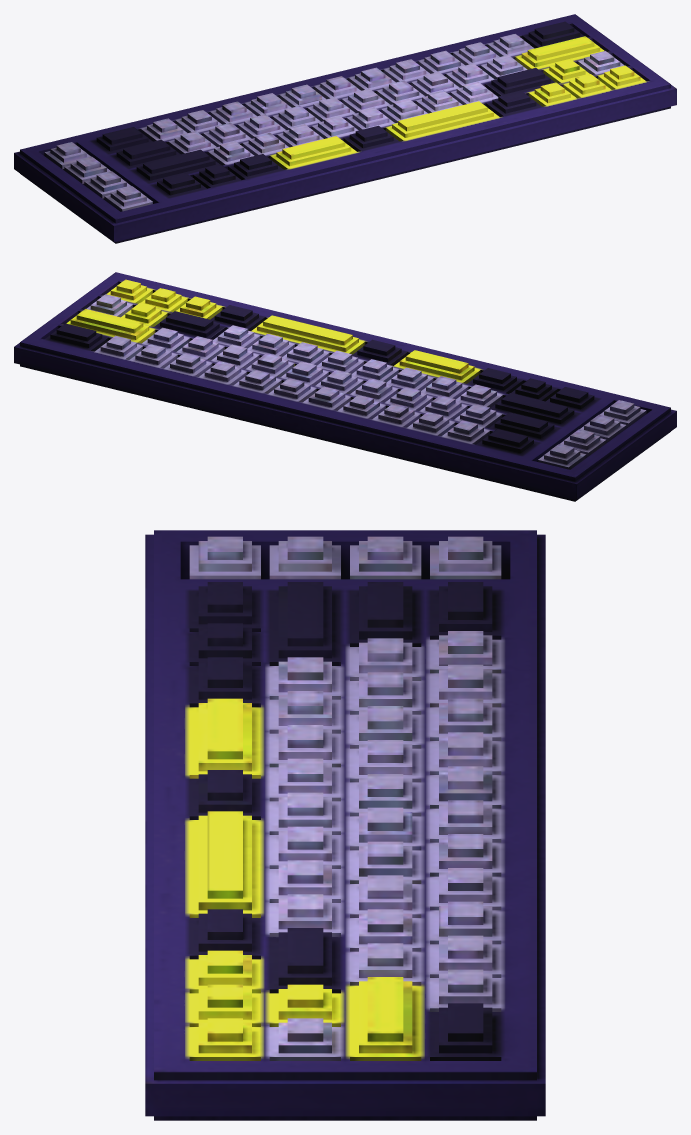
File: obi.glb
The picture shows the model from 3 angles, top to bottom: view 1: azimuth 30°, elevation 25°; view 2: azimuth 150°, elevation 25°; view 3: azimuth 270°, elevation 25°; orthographic projection. The views are drawn at different scales.
Visible parts, largest first — view 1: obi; view 2: obi; view 3: obi.
Part boxes in pixels (x1,y1,x2,y2): obi: [14, 14, 676, 243]; obi: [14, 272, 676, 501]; obi: [145, 530, 545, 1120].
Bounding box in the file's own units: 14.6 × 0.8 × 4.5.
1 material, 1 textured.
